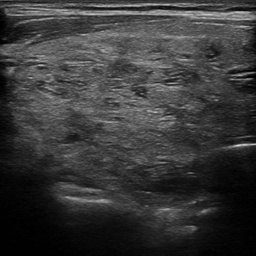mass: (11, 37, 233, 185)
